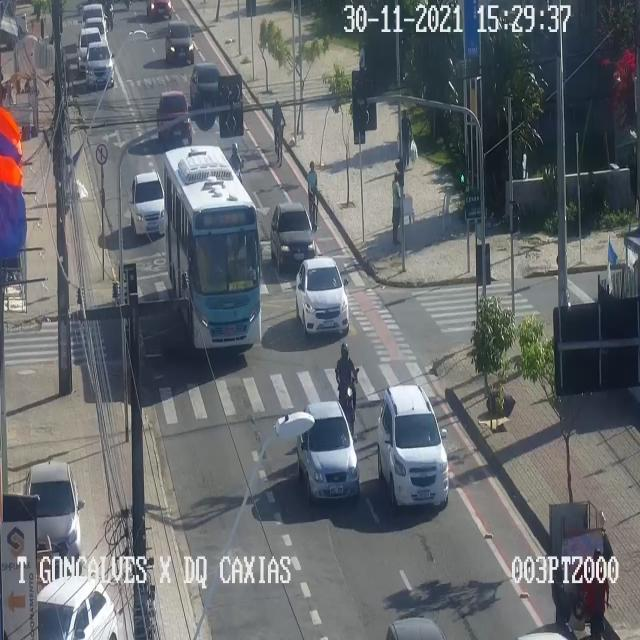Bus: (164, 145, 266, 352)
Car: (377, 384, 451, 510), (300, 397, 360, 505), (25, 462, 83, 558), (36, 577, 118, 639), (296, 258, 348, 340), (270, 203, 314, 270), (128, 172, 168, 236), (158, 91, 192, 145), (191, 64, 221, 119), (86, 42, 115, 92), (165, 22, 195, 66), (76, 28, 104, 72), (147, 0, 174, 24), (80, 1, 103, 29), (84, 21, 108, 46)
Motorcycle: (335, 345, 358, 436), (226, 144, 243, 184), (105, 0, 116, 30)
